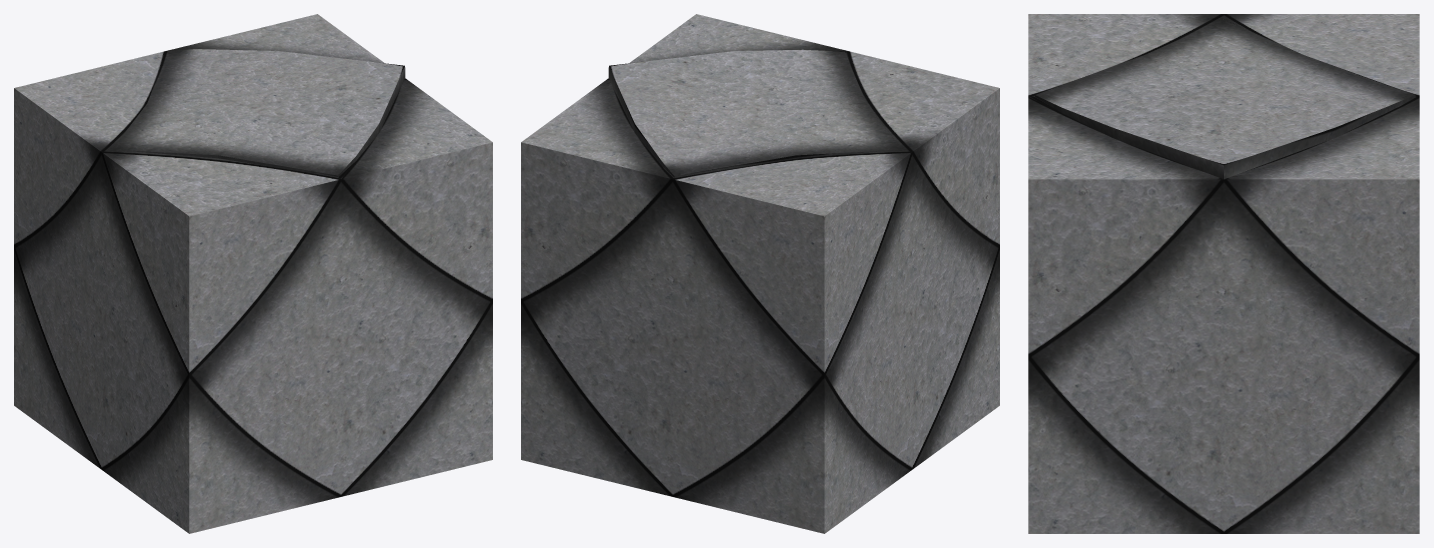
The model's file is LevelFloor.fbx.
3 views of the same model, side by side, from view 1: azimuth 30°, elevation 25°; view 2: azimuth 150°, elevation 25°; view 3: azimuth 270°, elevation 25° (orthographic). The views are drawn at different scales.
Visible parts, largest first — view 1: Floor; view 2: Floor; view 3: Floor.
Part boxes in pixels (bbox=[...]): Floor: bbox=[14, 14, 492, 533]; Floor: bbox=[521, 14, 999, 533]; Floor: bbox=[1028, 14, 1419, 533].
Bounding box in the file's own units: 100 × 104 × 100.
